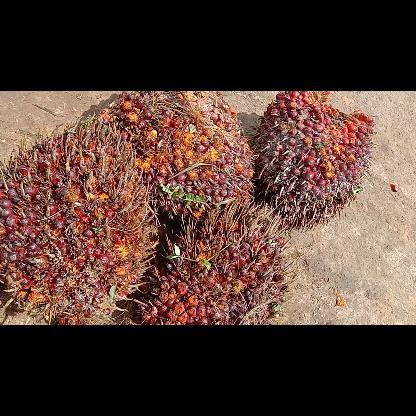TBS masak: (0, 114, 155, 325), (100, 90, 254, 218), (138, 200, 292, 324), (251, 90, 375, 226)
